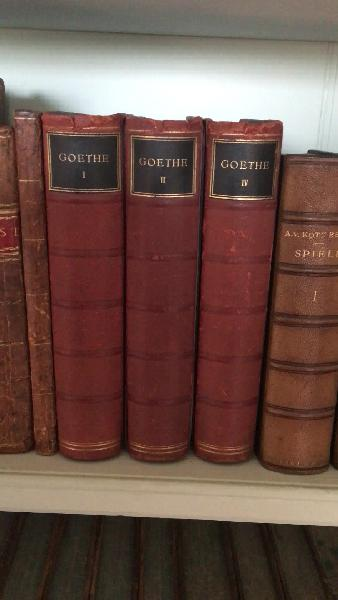Aa6-10: (10, 102, 65, 456)
Aa6-11_13: (44, 109, 281, 470)
